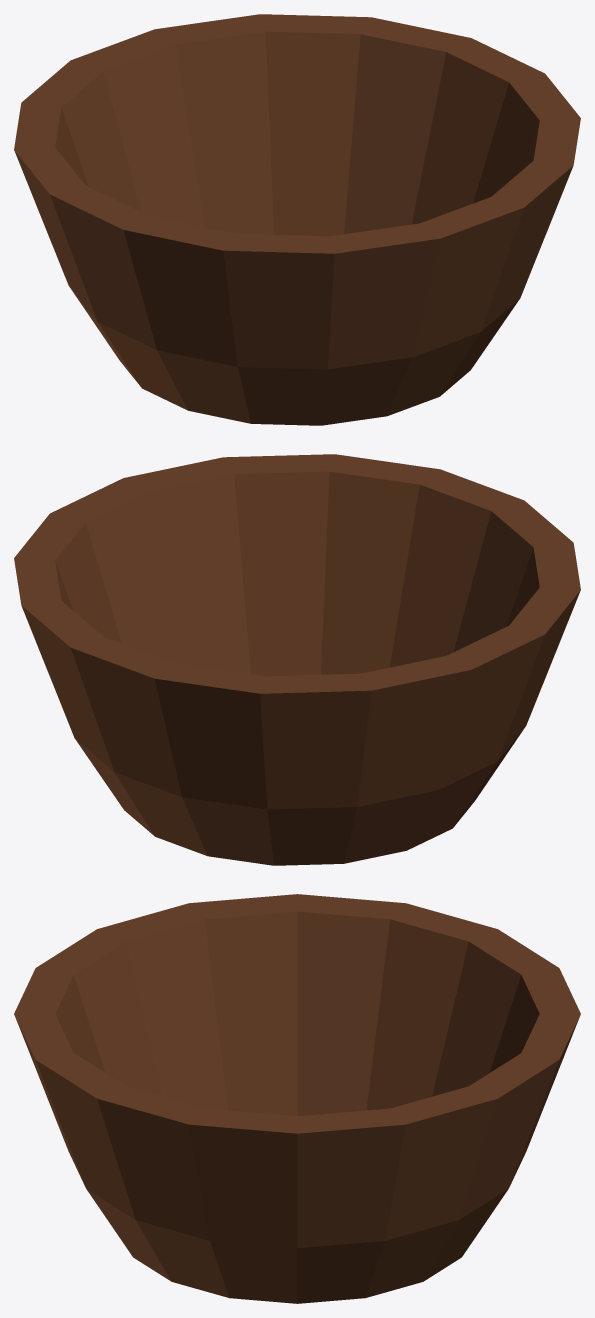
The model's file is tablebowl01.gltf.
The picture shows the model from 3 angles, top to bottom: view 1: azimuth 30°, elevation 25°; view 2: azimuth 150°, elevation 25°; view 3: azimuth 270°, elevation 25°; orthographic projection.
Visible parts, largest first — view 1: Cylinder.001; view 2: Cylinder.001; view 3: Cylinder.001.
Part boxes in pixels (bbox=[...]): Cylinder.001: bbox=[14, 14, 580, 425]; Cylinder.001: bbox=[14, 454, 580, 865]; Cylinder.001: bbox=[14, 894, 580, 1303].
Size of the model in its own units: 0.1463 by 0.0611 by 0.1463.
Materials: 1 (1 with a texture image).
